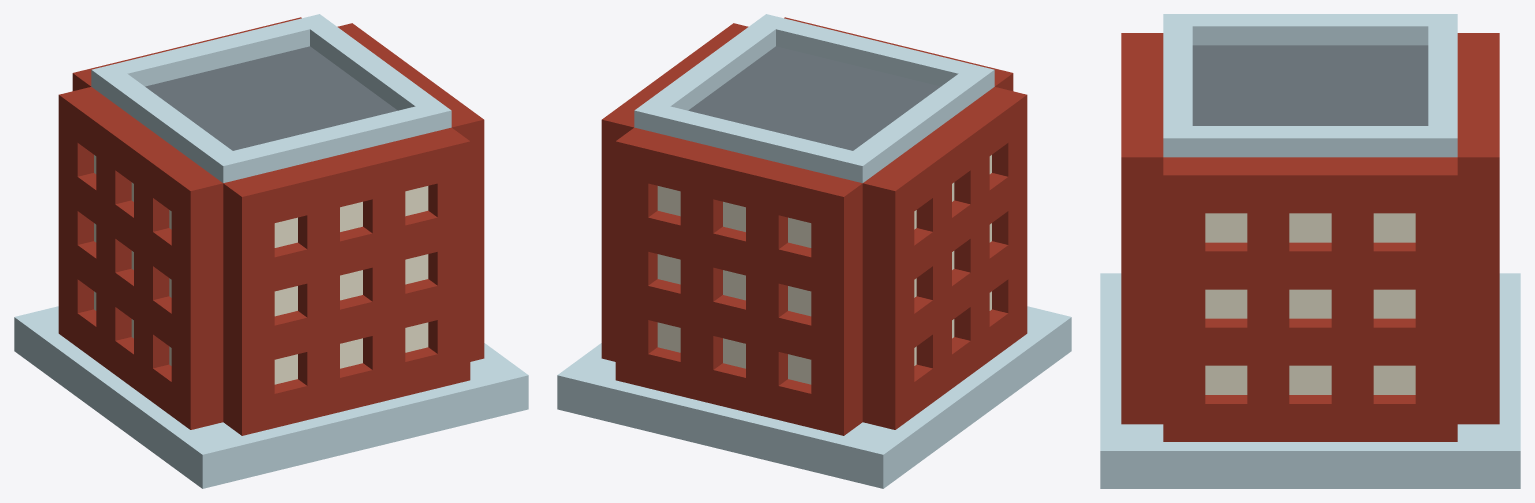
File: Building_1_Base (Red).obj
3 renders of one model, left to right at view 1: azimuth 30°, elevation 25°; view 2: azimuth 150°, elevation 25°; view 3: azimuth 270°, elevation 25°, orthographic. The views are drawn at different scales.
Parts seen in each view (by area): view 1: Building_1_Base_(Red); view 2: Building_1_Base_(Red); view 3: Building_1_Base_(Red).
Part boxes in pixels (x1,y1,x2,y2): Building_1_Base_(Red): (14,14,528,488); Building_1_Base_(Red): (557,14,1071,488); Building_1_Base_(Red): (1100,14,1520,488).
Bounding box in the file's own units: 2 × 1.7 × 2.
